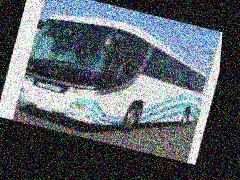bus: (12, 0, 219, 157)
